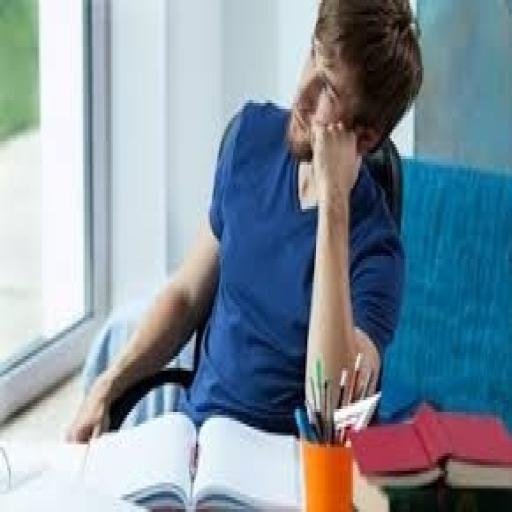sitting: (63, 0, 423, 447)
